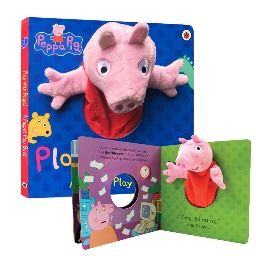Peppa: (41, 23, 186, 137), (165, 135, 225, 209)
